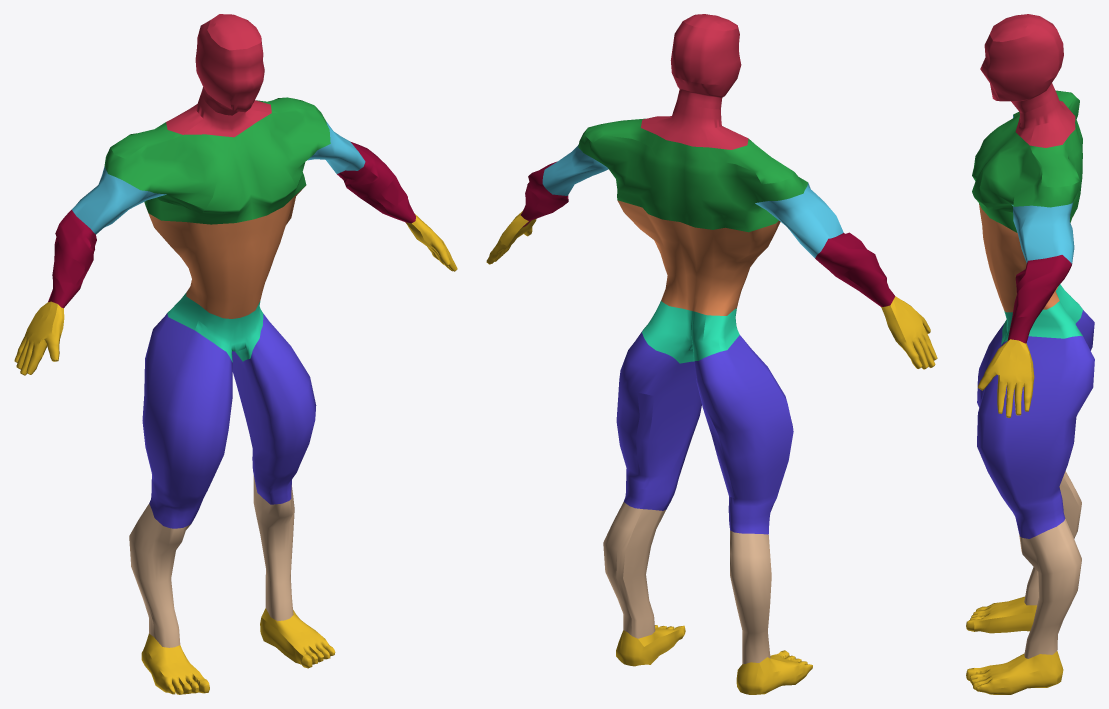
The model's file is muscular_body.glb.
3 views of the same model, side by side, from view 1: azimuth 30°, elevation 25°; view 2: azimuth 150°, elevation 25°; view 3: azimuth 270°, elevation 25° (orthographic). The views are drawn at different scales.
Parts seen in each view (by area): view 1: Cylinder003_7, Cylinder003_1, Cylinder003_5, Cylinder003_8, Cylinder003_4, Cylinder003, Cylinder003_3, Cylinder003_2, Cylinder003_6; view 2: Cylinder003_7, Cylinder003_1, Cylinder003_8, Cylinder003_5, Cylinder003, Cylinder003_4, Cylinder003_2, Cylinder003_3, Cylinder003_6; view 3: Cylinder003_7, Cylinder003_1, Cylinder003, Cylinder003_4, Cylinder003_8, Cylinder003_2, Cylinder003_3, Cylinder003_5, Cylinder003_6.
Boxes of the visible parts, left/top/right/bottom form: Cylinder003_7: left=142, top=313, right=316, bottom=528; Cylinder003_1: left=104, top=97, right=330, bottom=224; Cylinder003_5: left=148, top=186, right=305, bottom=318; Cylinder003_8: left=129, top=475, right=294, bottom=647; Cylinder003_4: left=14, top=213, right=457, bottom=694; Cylinder003: left=166, top=14, right=406, bottom=223; Cylinder003_3: left=48, top=141, right=415, bottom=308; Cylinder003_2: left=72, top=121, right=365, bottom=234; Cylinder003_6: left=167, top=293, right=263, bottom=362; Cylinder003_7: left=616, top=330, right=793, bottom=534; Cylinder003_1: left=578, top=118, right=808, bottom=232; Cylinder003_8: left=603, top=502, right=771, bottom=664; Cylinder003_5: left=617, top=200, right=780, bottom=315; Cylinder003: left=522, top=14, right=748, bottom=227; Cylinder003_4: left=486, top=211, right=937, bottom=694; Cylinder003_2: left=542, top=144, right=843, bottom=257; Cylinder003_3: left=520, top=161, right=895, bottom=306; Cylinder003_6: left=642, top=300, right=739, bottom=363; Cylinder003_7: left=977, top=310, right=1094, bottom=538; Cylinder003_1: left=972, top=90, right=1082, bottom=232; Cylinder003: left=980, top=14, right=1075, bottom=147; Cylinder003_4: left=966, top=339, right=1063, bottom=694; Cylinder003_8: left=1019, top=471, right=1081, bottom=658; Cylinder003_2: left=1012, top=115, right=1074, bottom=263; Cylinder003_3: left=1007, top=255, right=1071, bottom=343; Cylinder003_5: left=979, top=204, right=1073, bottom=312; Cylinder003_6: left=1001, top=284, right=1082, bottom=344.
Bounding box in the file's own units: 1.23 × 1.75 × 0.3191.
